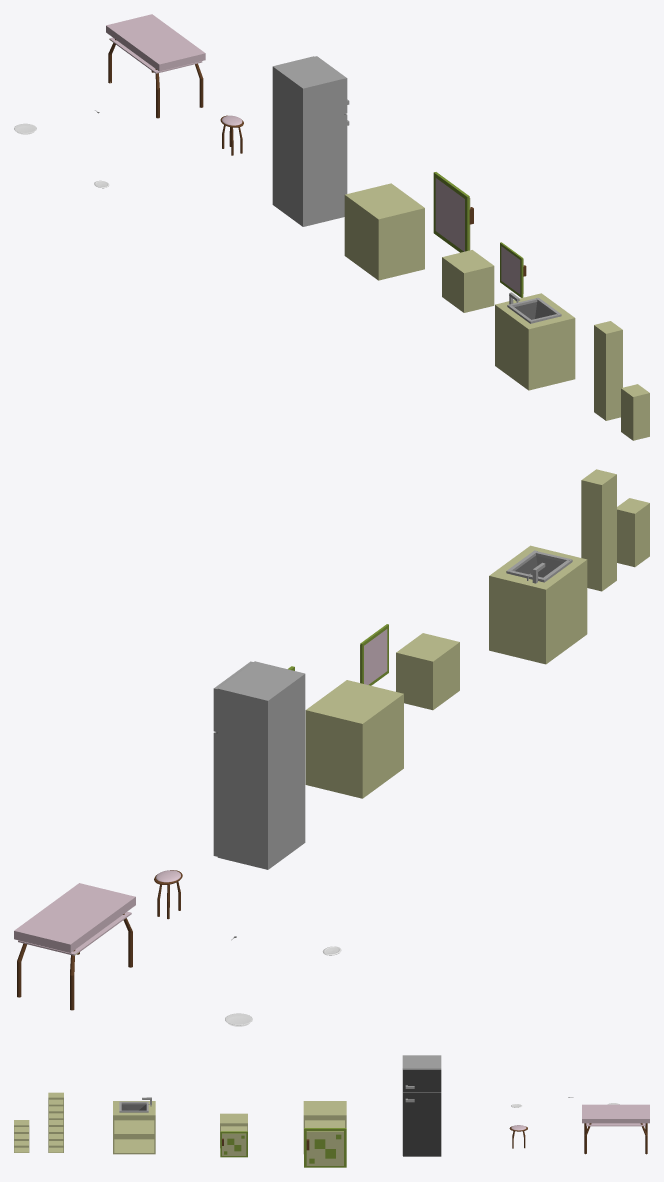
File: Mutfak.fbx
3 renders of one model, top to bottom at view 1: azimuth 30°, elevation 25°; view 2: azimuth 150°, elevation 25°; view 3: azimuth 270°, elevation 25°, orthographic. The views are drawn at different scales.
Visible parts, largest first — view 1: Cube.008, Cube.013, Cube.009, Cube.007, Cube.011, Cube.014, Cube.010, Cube.015, Cube.012; view 2: Cube.008, Cube.009, Cube.013, Cube.007, Cube.011, Cube.014, Cube.015, Cube.012; view 3: Cube.008, Cube.013, Cube.007, Cube.010, Cube.009, Cube.014, Cube.012, Cube.011, Cube.015.
Boxes of the visible parts, bbox=[...] form: Cube.008: bbox=[272, 56, 349, 226]; Cube.013: bbox=[495, 292, 575, 390]; Cube.009: bbox=[344, 183, 424, 280]; Cube.007: bbox=[106, 14, 205, 118]; Cube.011: bbox=[442, 250, 494, 312]; Cube.014: bbox=[594, 321, 622, 420]; Cube.010: bbox=[433, 172, 473, 252]; Cube.015: bbox=[621, 384, 649, 440]; Cube.012: bbox=[500, 242, 526, 297]; Cube.008: bbox=[213, 661, 305, 869]; Cube.009: bbox=[305, 680, 403, 798]; Cube.013: bbox=[489, 545, 587, 664]; Cube.007: bbox=[14, 883, 135, 1010]; Cube.011: bbox=[396, 633, 459, 710]; Cube.014: bbox=[581, 469, 616, 591]; Cube.015: bbox=[617, 498, 649, 567]; Cube.012: bbox=[360, 624, 388, 685]; Cube.008: bbox=[402, 1055, 441, 1156]; Cube.013: bbox=[113, 1097, 155, 1154]; Cube.007: bbox=[582, 1104, 649, 1154]; Cube.010: bbox=[304, 1128, 346, 1167]; Cube.009: bbox=[303, 1101, 346, 1153]; Cube.014: bbox=[48, 1092, 63, 1152]; Cube.012: bbox=[220, 1131, 247, 1157]; Cube.011: bbox=[220, 1113, 247, 1147]; Cube.015: bbox=[14, 1120, 29, 1152].
Size of the model in its own units: 328 by 200 by 1311.
